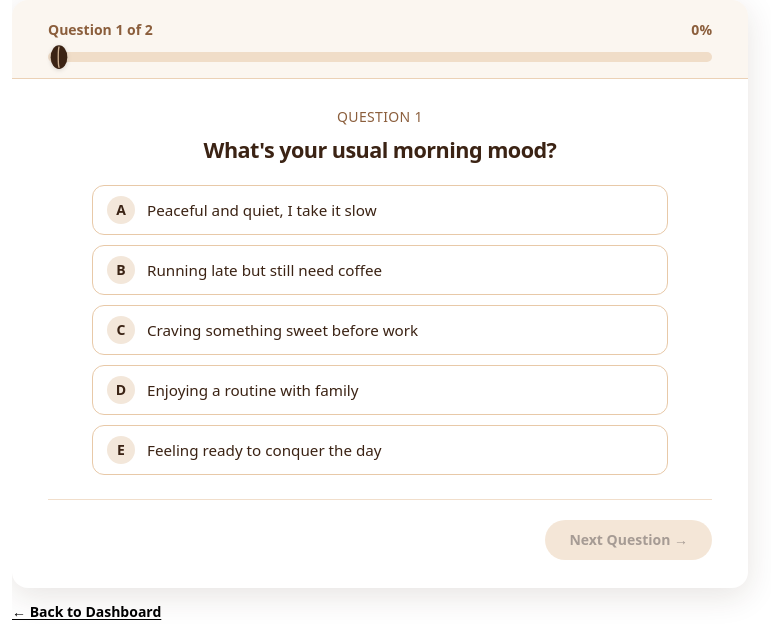
Test: QuizForm › advances progress after answering a question
Click the button "A Peaceful and quiet, I take it slow" at (262,210), box [92,185,668,235]
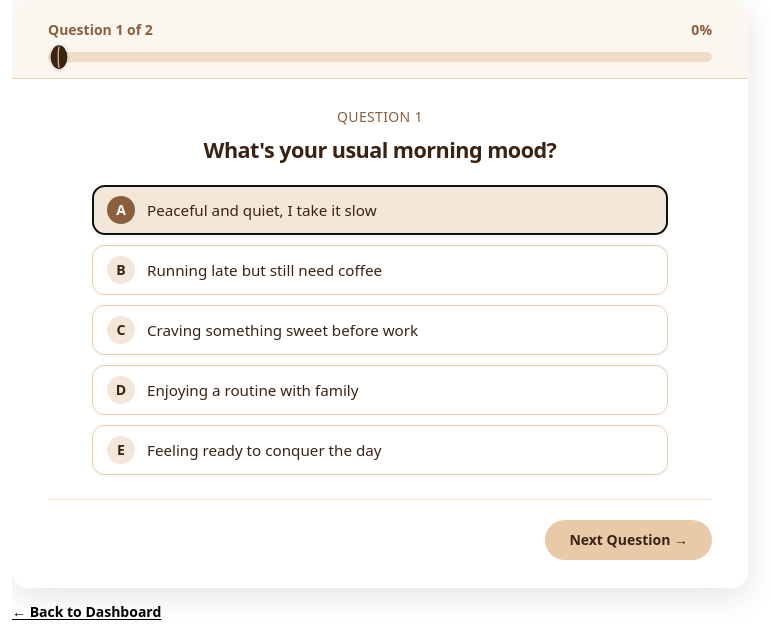
Click the button "Next Question →" at (629,540), box [545,520,712,560]
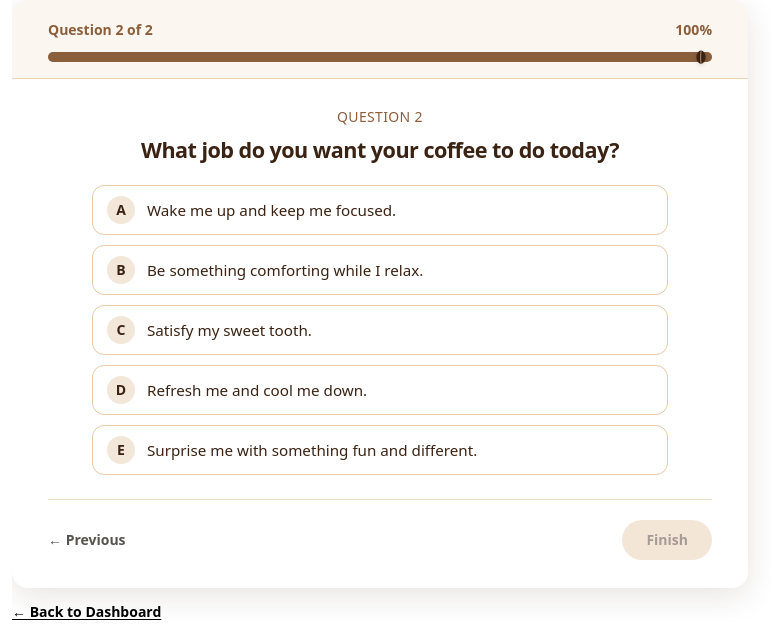
Expected: the text "Question 2 of 2" is shown, [48,20,153,40]
Expected: the heading "What job do you want your coffee to do today?" is shown, [141,135,619,164]
